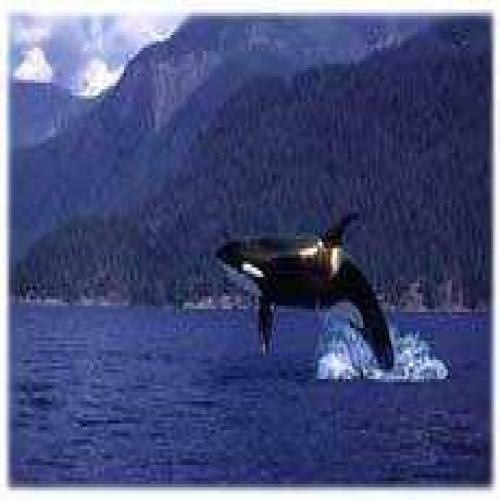killer_whale-endangered: (210, 207, 424, 383)
